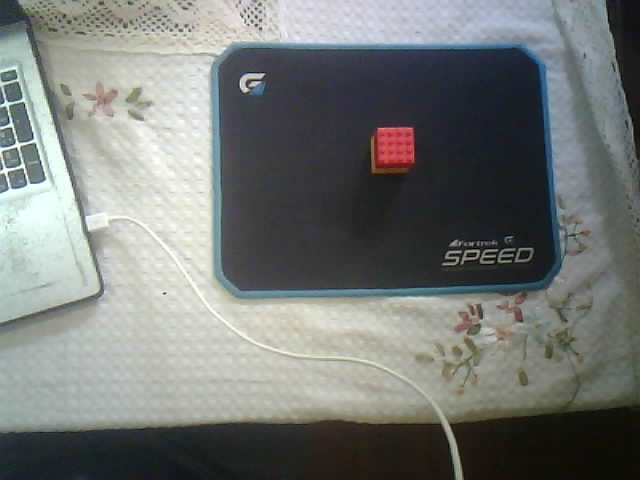lego: (368, 126, 415, 174)
